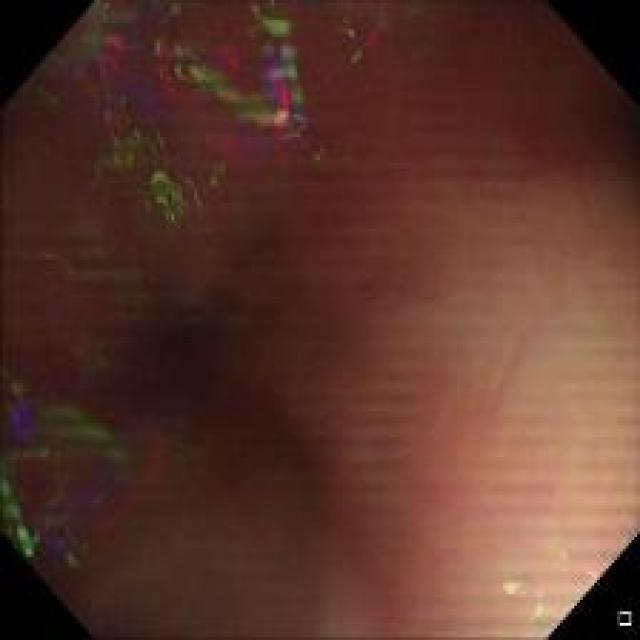color misalignment: (38, 0, 378, 219), (6, 371, 170, 580), (496, 575, 550, 621), (581, 562, 610, 588)
contrast: (0, 209, 292, 520), (584, 65, 638, 175)
